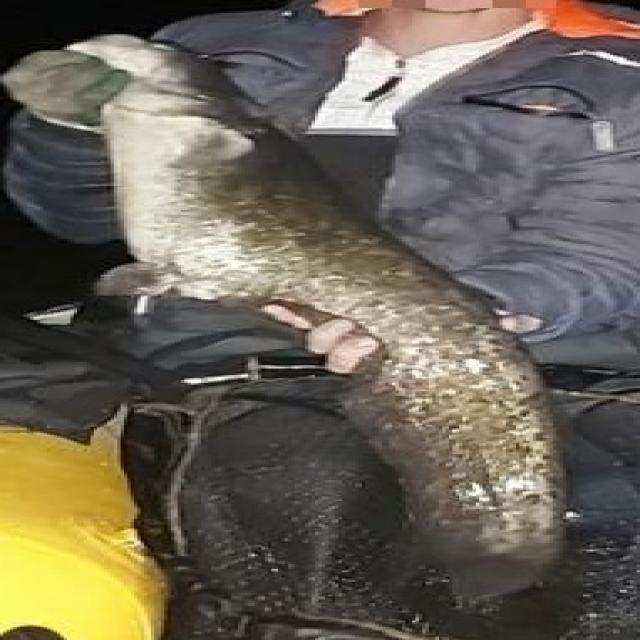Catfish: (46, 28, 607, 618)
